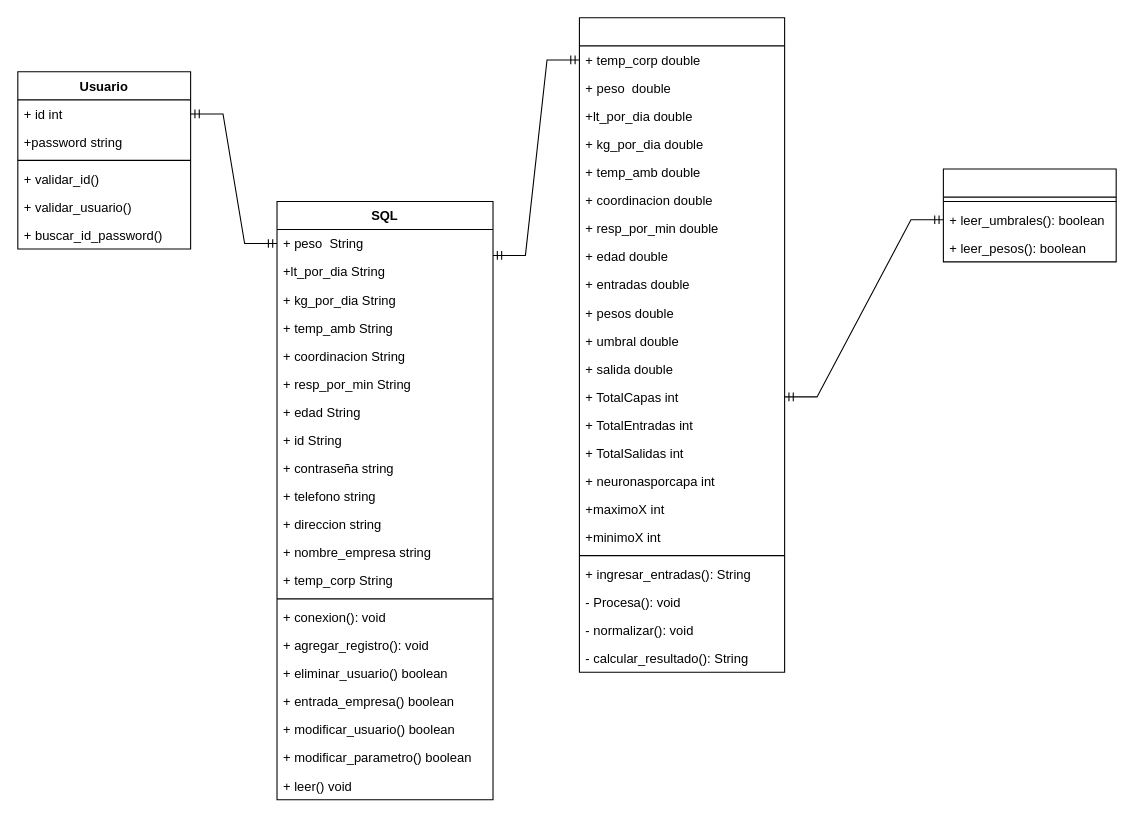
This 1134x818 diagram has some shape labels left out. Here are the shapes that lost their labels. From the top down, the box of each, then its label:
(942, 168, 1116, 262): archivo
(578, 17, 785, 672): perceptron
